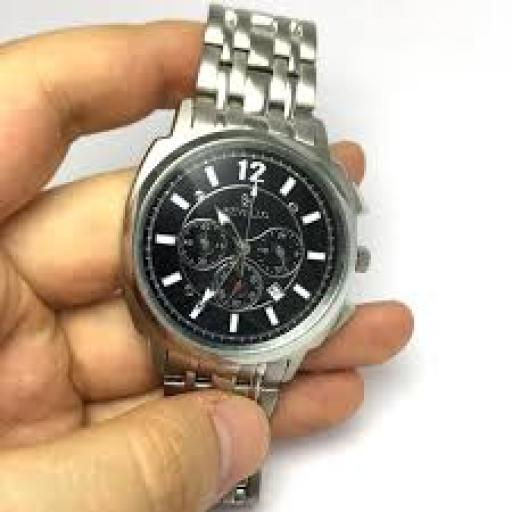KolSaati: (93, 1, 405, 511)
